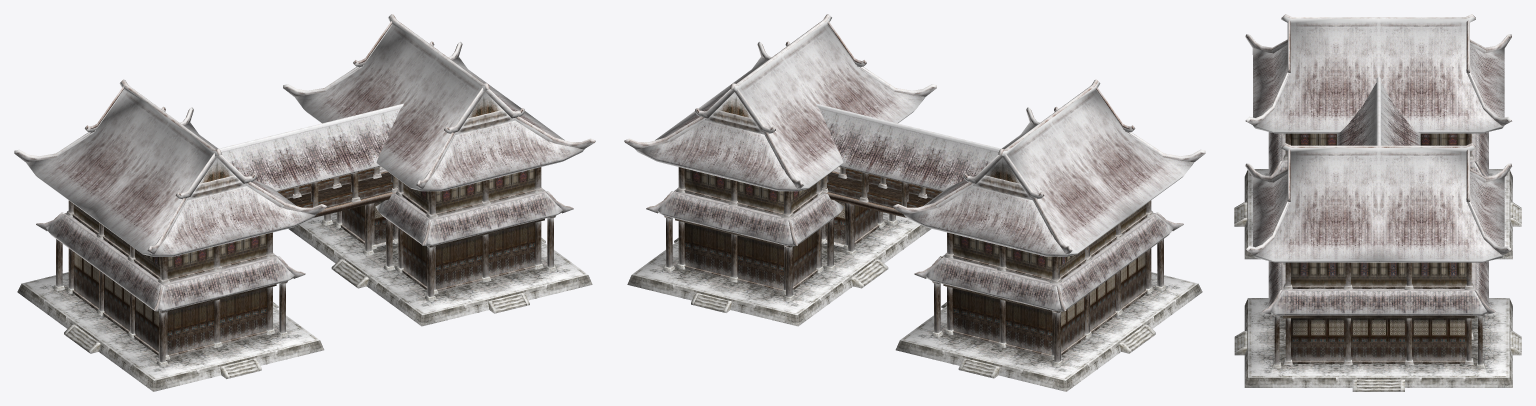
Rendered from snow-009-hotel.glb.
3 views of the same model, side by side, from view 1: azimuth 30°, elevation 25°; view 2: azimuth 150°, elevation 25°; view 3: azimuth 270°, elevation 25° (orthographic).
Parts seen in each view (by area): view 1: snow-009-hotel01, snow-009-hotel02, snow-009-hotel03; view 2: snow-009-hotel01, snow-009-hotel02, snow-009-hotel03; view 3: snow-009-hotel01, snow-009-hotel02, snow-009-hotel03.
Boxes of the visible parts, left/top/right/bottom form: snow-009-hotel01: left=14, top=14, right=595, bottom=256; snow-009-hotel02: left=36, top=103, right=573, bottom=354; snow-009-hotel03: left=17, top=167, right=592, bottom=391; snow-009-hotel01: left=624, top=14, right=1205, bottom=256; snow-009-hotel02: left=646, top=103, right=1183, bottom=354; snow-009-hotel03: left=627, top=167, right=1202, bottom=391; snow-009-hotel01: left=1245, top=14, right=1511, bottom=262; snow-009-hotel02: left=1261, top=77, right=1495, bottom=360; snow-009-hotel03: left=1234, top=133, right=1521, bottom=391.
Bounding box in the file's own units: 35.89 × 15.6 × 19.9.
Materials: 3 (3 with a texture image).
